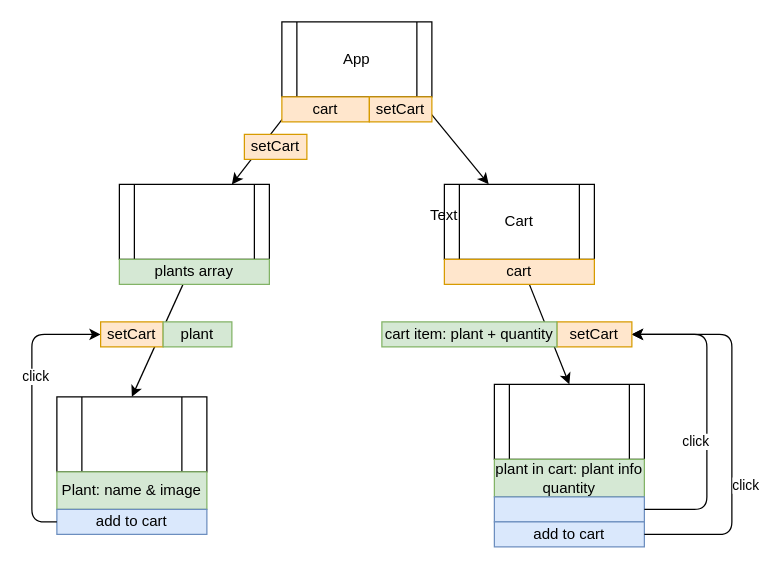
This 780x569 diagram has some shape labels left out. Each missing label, with the centre of its shape:
CartItem: the point at 568,421
PlantItem: the point at 131,434
PlantList: the point at 193,221
remove from cart: the point at 568,509
